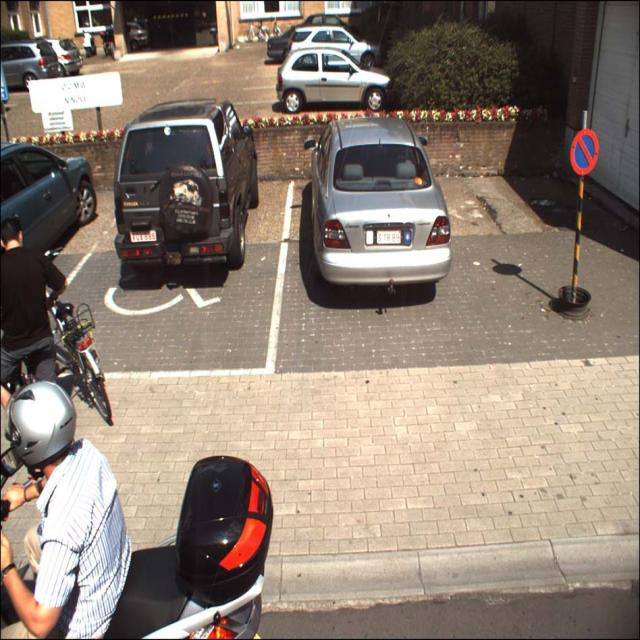parkyasak: (571, 127, 599, 173)
